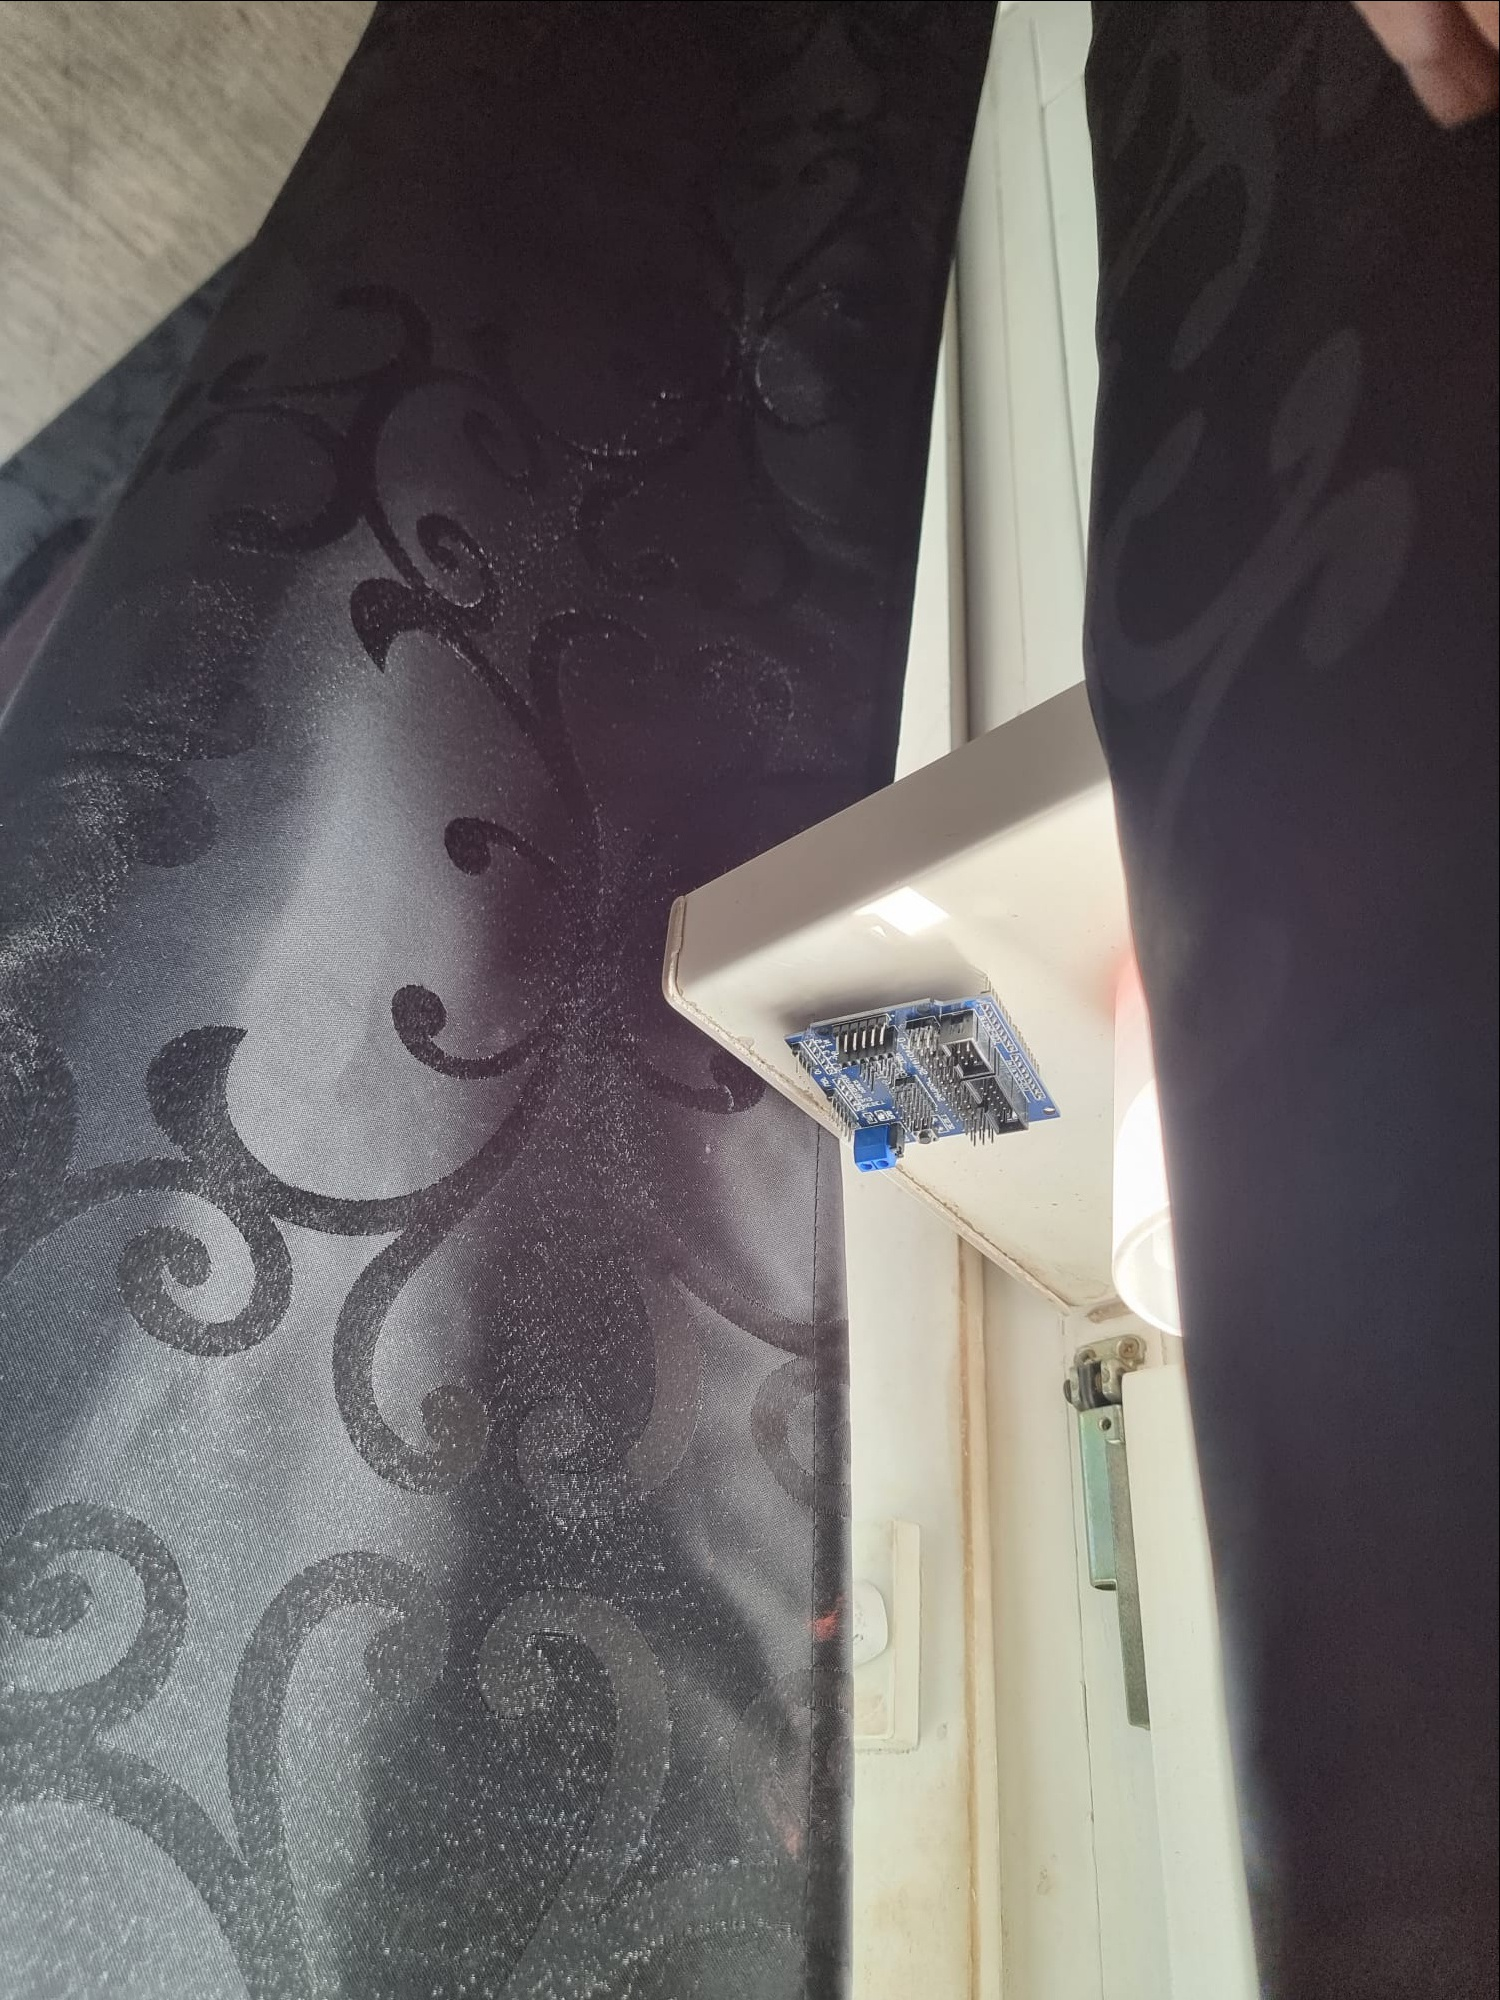5V EXPANSION: (799, 976, 1060, 1180)
